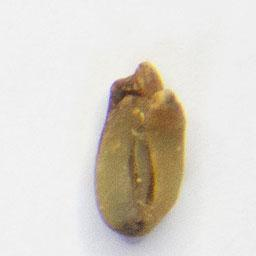defect: (90, 58, 189, 240)
